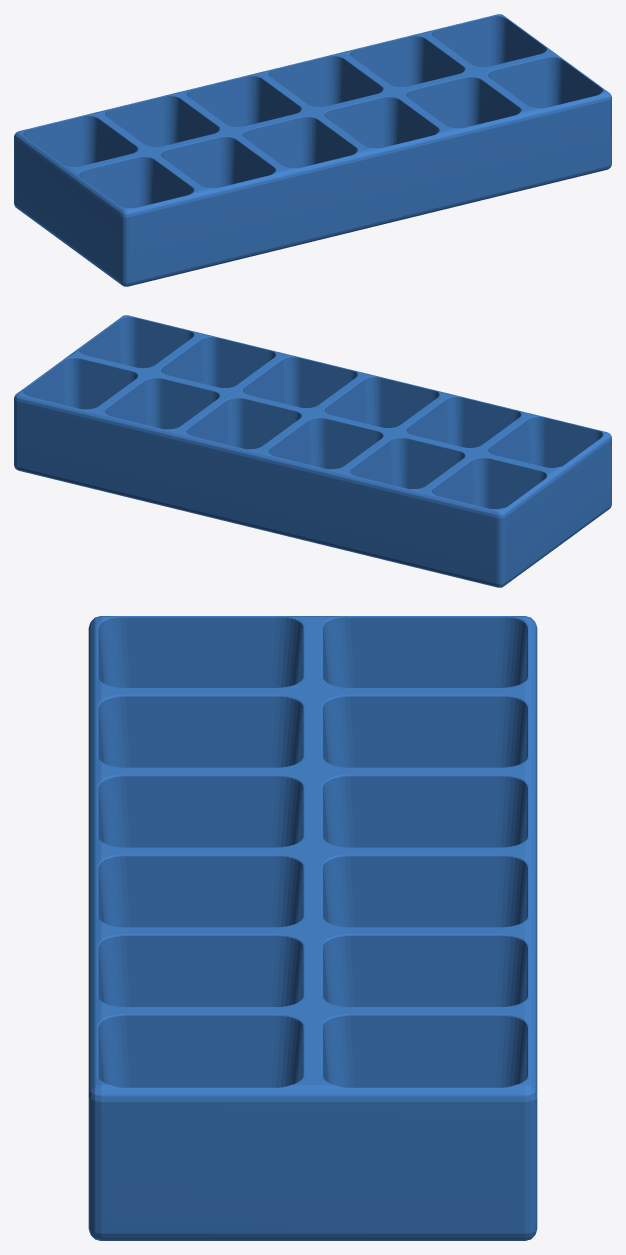
Rendered from fridge_contents__blue_ice_cube_tray.glb.
The picture shows the model from 3 angles, top to bottom: view 1: azimuth 30°, elevation 25°; view 2: azimuth 150°, elevation 25°; view 3: azimuth 270°, elevation 25°; orthographic projection. The views are drawn at different scales.
Parts seen in each view (by area): view 1: molded tray with rounded wells; view 2: molded tray with rounded wells; view 3: molded tray with rounded wells.
Part boxes in pixels (x1,y1,x2,y2): molded tray with rounded wells: [14, 14, 611, 286]; molded tray with rounded wells: [14, 315, 611, 587]; molded tray with rounded wells: [88, 616, 537, 1240].
Size of the model in its own units: 0.265 by 0.04 by 0.105.
